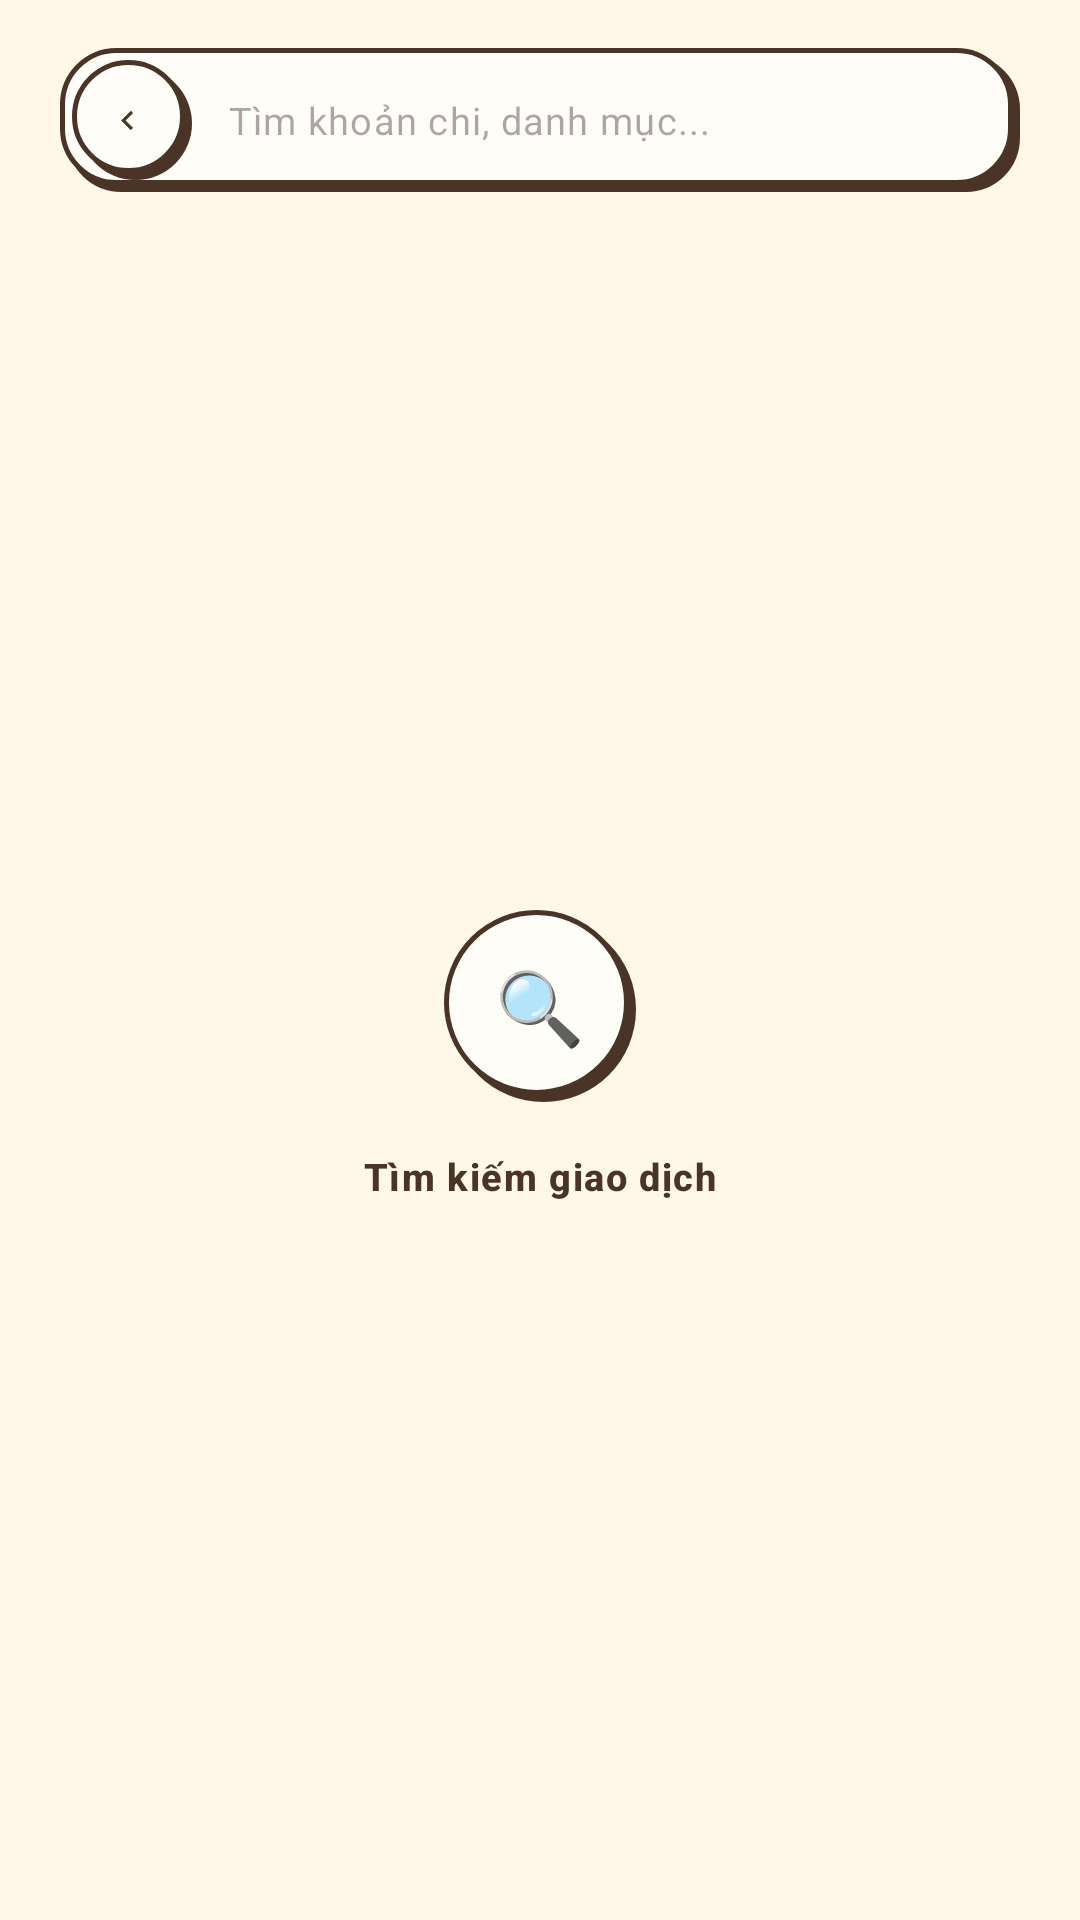

Where to tap for icons on this 1080 × 1920 app screen, as (x=x, y=y):
chevron left: (x=132, y=120)
